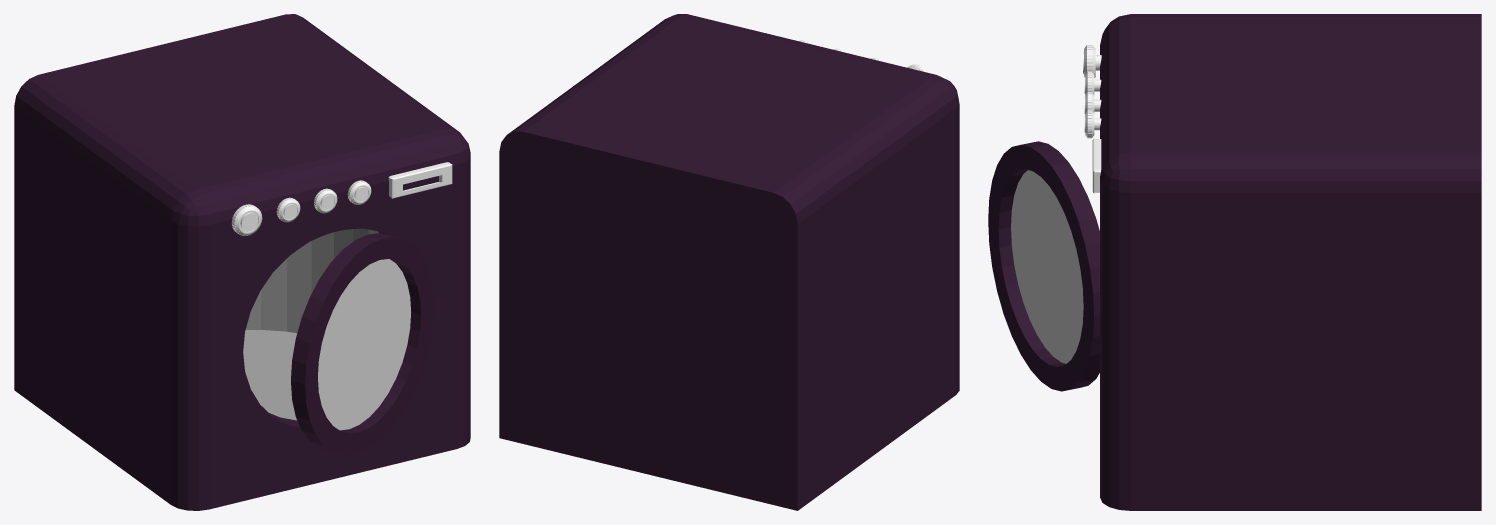
The model's file is Maquina-de-Lavar.fbx.
3 views of the same model, side by side, from view 1: azimuth 30°, elevation 25°; view 2: azimuth 150°, elevation 25°; view 3: azimuth 270°, elevation 25° (orthographic). The views are drawn at different scales.
Parts seen in each view (by area): view 1: Cube.033; view 2: Cube.033; view 3: Cube.033.
Boxes of the visible parts, left/top/right/bottom form: Cube.033: left=14, top=14, right=470, bottom=510; Cube.033: left=499, top=14, right=959, bottom=510; Cube.033: left=988, top=14, right=1481, bottom=510.
Size of the model in its own units: 304 by 316 by 393.
